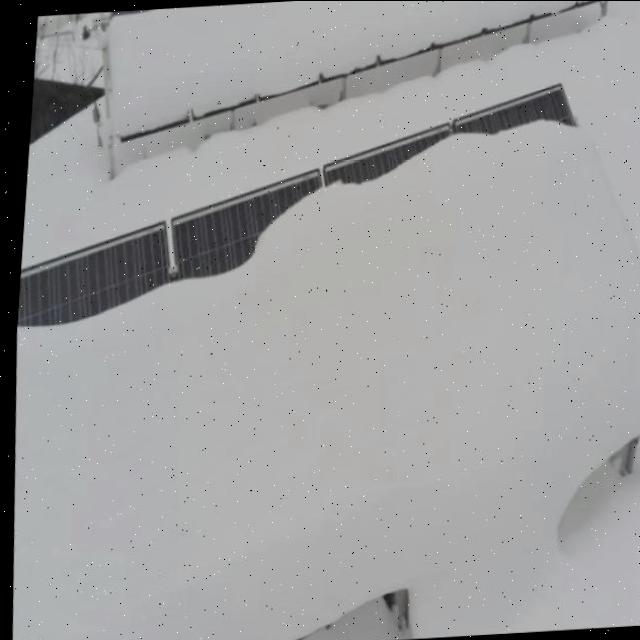Anomaly Solar Panel: (12, 83, 640, 640), (99, 6, 181, 140), (169, 2, 248, 119), (233, 0, 311, 99), (294, 0, 368, 81), (354, 0, 426, 64), (465, 0, 586, 32), (412, 0, 477, 47)
Snow: (170, 186, 417, 640), (317, 133, 565, 580), (12, 278, 217, 640), (451, 118, 640, 467), (99, 6, 183, 139), (169, 2, 248, 116), (234, 0, 312, 97), (294, 0, 369, 77), (355, 0, 426, 56), (467, 0, 586, 32), (414, 0, 476, 42)
